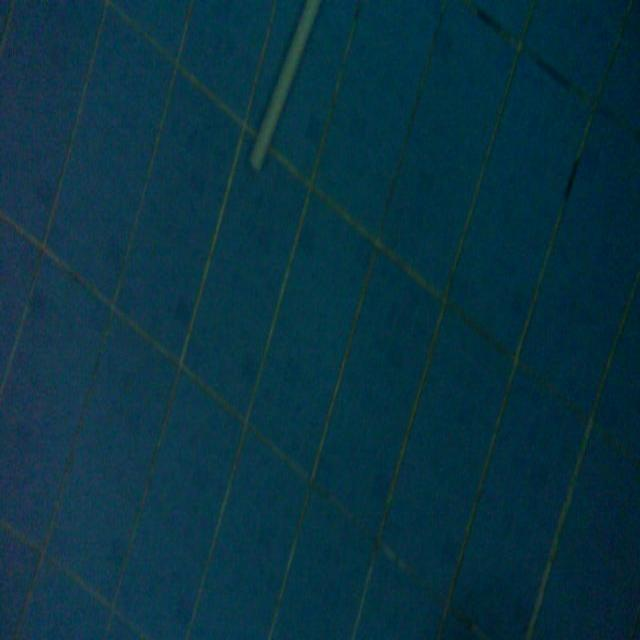Cube: (247, 0, 322, 174)
